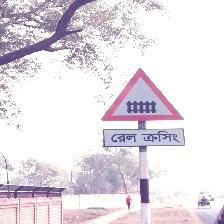Rail-crossing: (100, 69, 186, 148)
